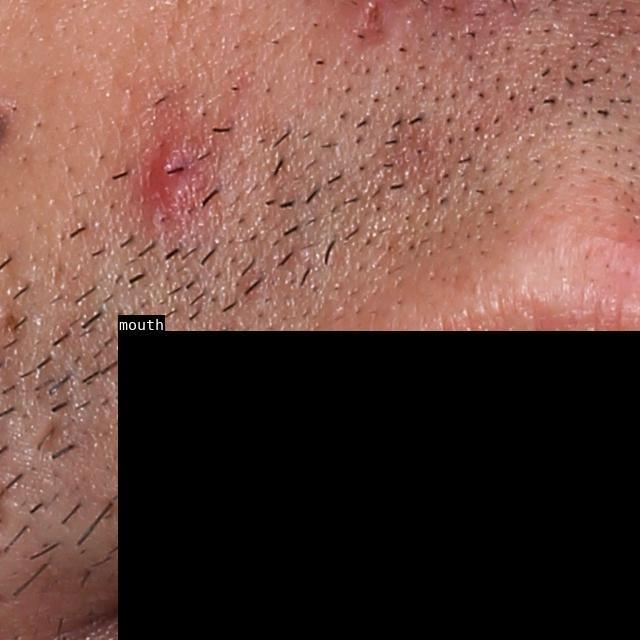papule: (141, 117, 210, 216)
